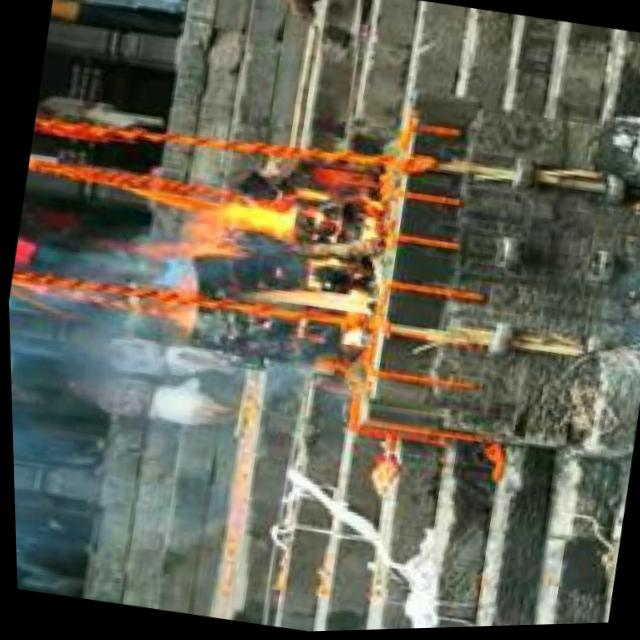Fire: (135, 183, 388, 336)
